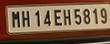1: (33, 9, 41, 27), (92, 7, 98, 24)
4: (42, 9, 51, 26)
5: (72, 7, 80, 24)
8: (81, 8, 90, 24)
9: (99, 6, 107, 24)
E: (53, 9, 62, 25)
H: (20, 9, 31, 27), (61, 8, 71, 25)
M: (10, 9, 20, 28)
